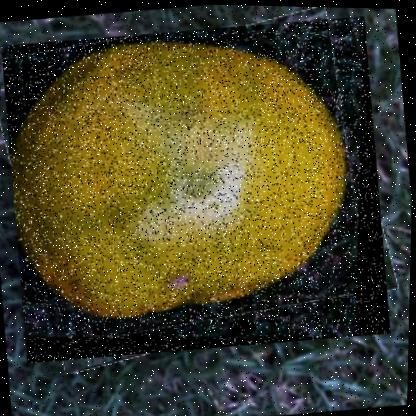orange: (0, 7, 397, 369)
